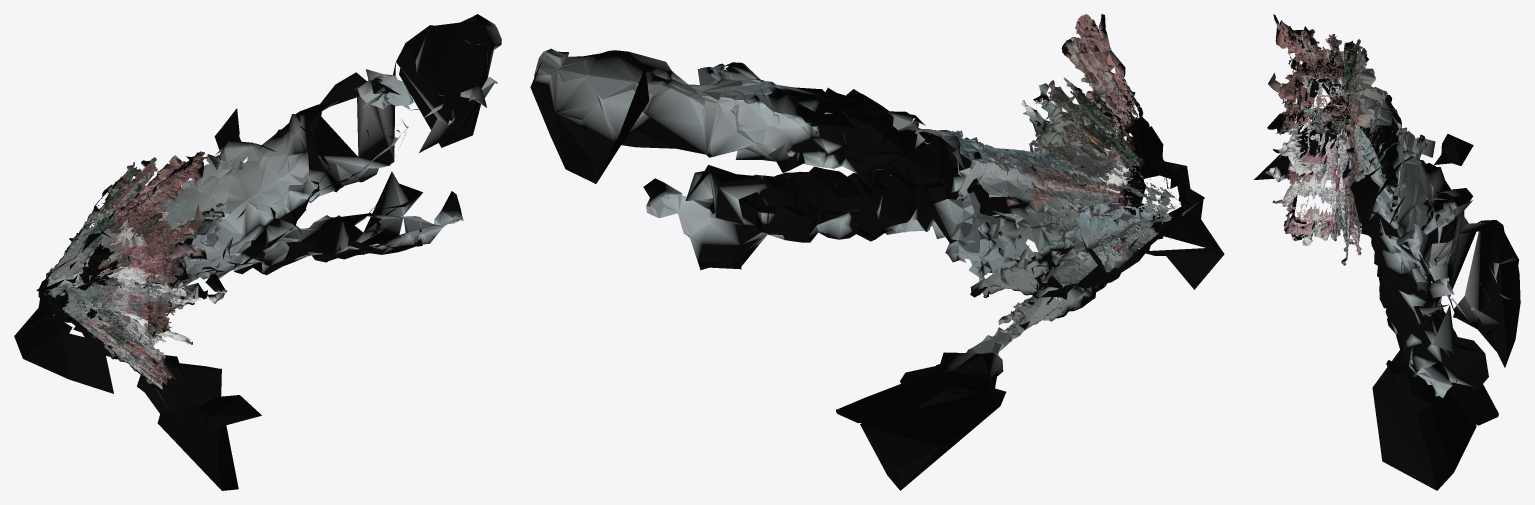
The model's file is milo.glb.
The picture shows the model from 3 angles, left to right: view 1: azimuth 30°, elevation 25°; view 2: azimuth 150°, elevation 25°; view 3: azimuth 270°, elevation 25°; orthographic projection. The views are drawn at different scales.
Parts seen in each view (by area): view 1: geometry_0; view 2: geometry_0; view 3: geometry_0.
Part boxes in pixels (x1,y1,x2,y2): geometry_0: (14,14,501,490); geometry_0: (530,14,1224,490); geometry_0: (1254,14,1520,490).
Size of the model in its own units: 52.21 by 37.24 by 21.37.
